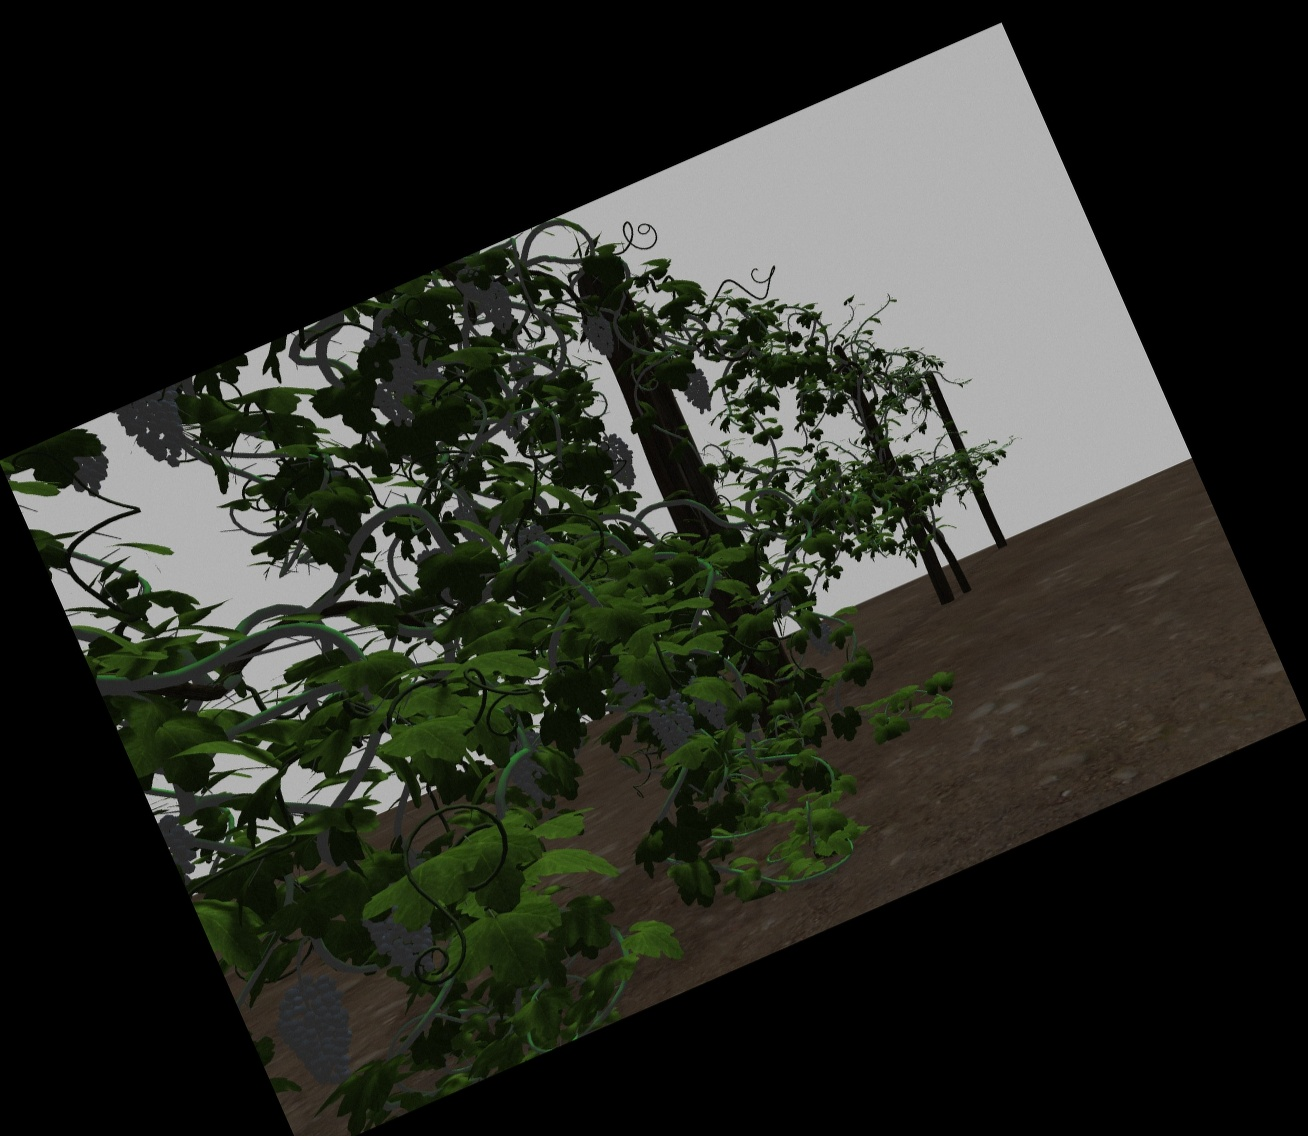grape: (278, 984, 358, 1084), (374, 902, 440, 979), (128, 401, 194, 470), (373, 327, 414, 392), (653, 692, 693, 748), (68, 450, 112, 496), (512, 745, 545, 803), (480, 283, 514, 333), (606, 435, 635, 488), (377, 382, 409, 428), (683, 371, 712, 415), (587, 314, 615, 359), (698, 691, 727, 730), (168, 814, 194, 858), (810, 620, 833, 656)
